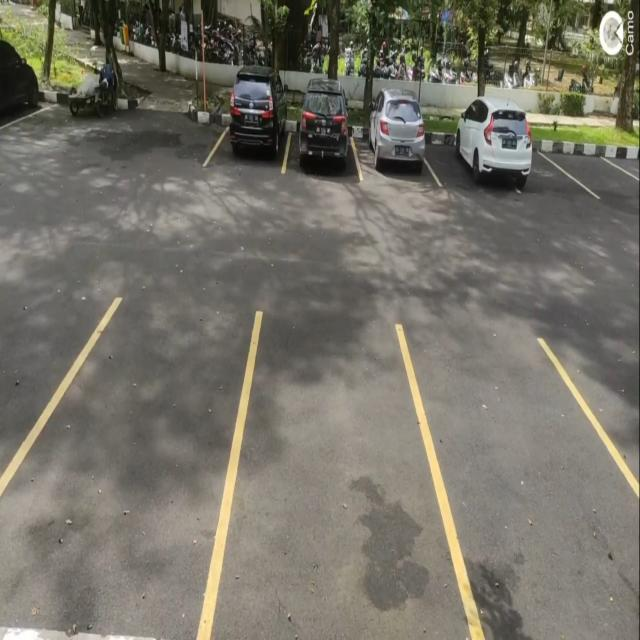empty: (11, 299, 230, 635), (232, 308, 438, 638), (439, 336, 619, 640), (566, 140, 640, 201)
occupied: (431, 109, 522, 192), (217, 65, 287, 172), (359, 86, 428, 177), (286, 86, 358, 173)
